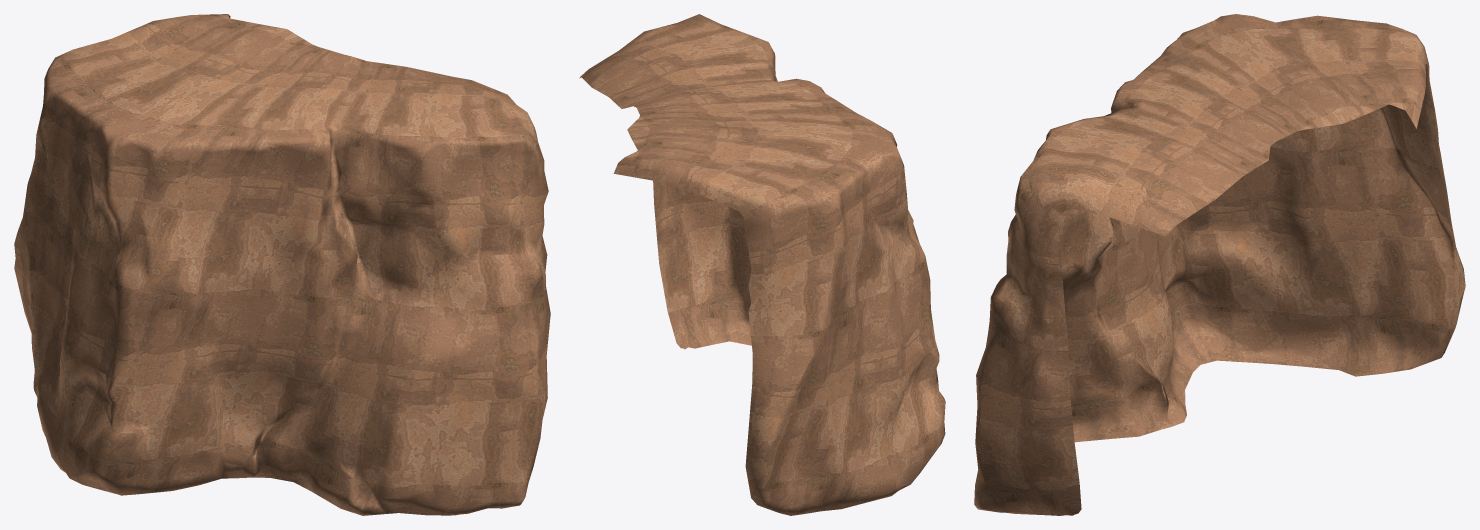
Rendered from Ob_RockCliff27.fbx.
The picture shows the model from 3 angles, left to right: view 1: azimuth 30°, elevation 25°; view 2: azimuth 150°, elevation 25°; view 3: azimuth 270°, elevation 25°; orthographic projection. The views are drawn at different scales.
Parts seen in each view (by area): view 1: Ob_RockCliff27; view 2: Ob_RockCliff27; view 3: Ob_RockCliff27.
Boxes of the visible parts, x1,y1,x2,y2 form: Ob_RockCliff27: [14, 14, 550, 515]; Ob_RockCliff27: [579, 14, 945, 515]; Ob_RockCliff27: [974, 14, 1465, 515].
Size of the model in its own units: 26487 by 22969 by 27333.
